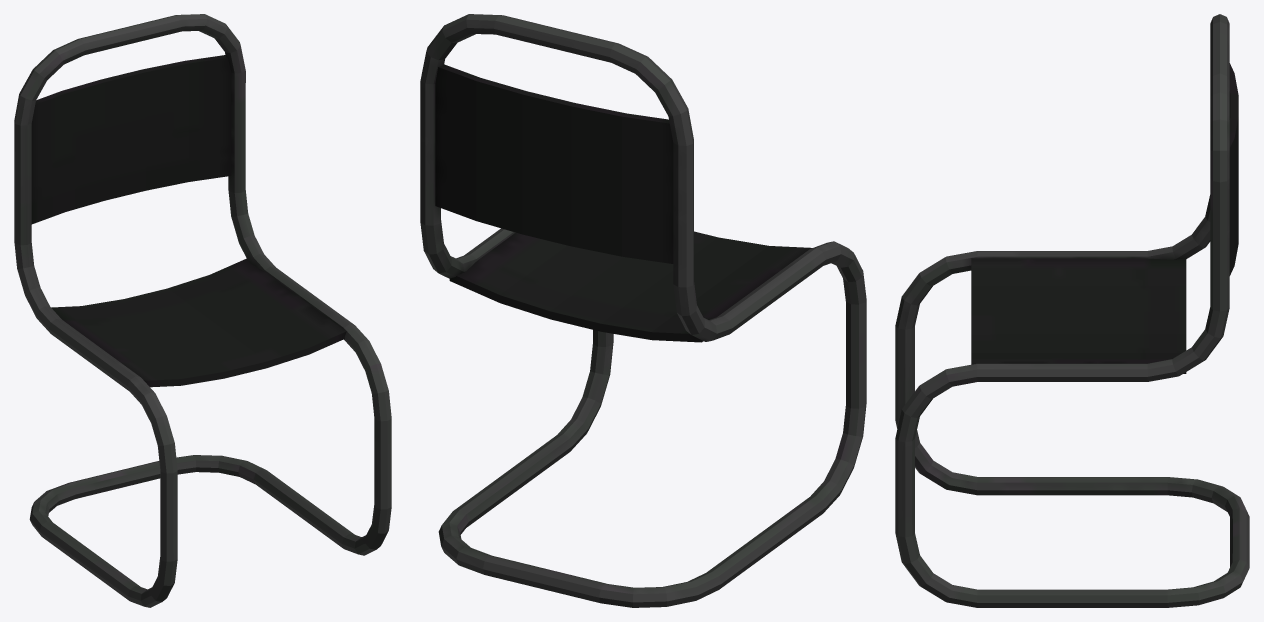
File: Chair.obj
3 renders of one model, left to right at view 1: azimuth 30°, elevation 25°; view 2: azimuth 150°, elevation 25°; view 3: azimuth 270°, elevation 25°, orthographic. The views are drawn at different scales.
Visible parts, largest first — view 1: Chair_Chair_Chair; view 2: Chair_Chair_Chair; view 3: Chair_Chair_Chair.
Boxes of the visible parts, <box> form: Chair_Chair_Chair: <box>14,14,391,607</box>; Chair_Chair_Chair: <box>420,14,866,607</box>; Chair_Chair_Chair: <box>895,14,1249,607</box>.
Size of the model in its own units: 1.13 by 2.19 by 1.4.
1 material, 1 textured.
